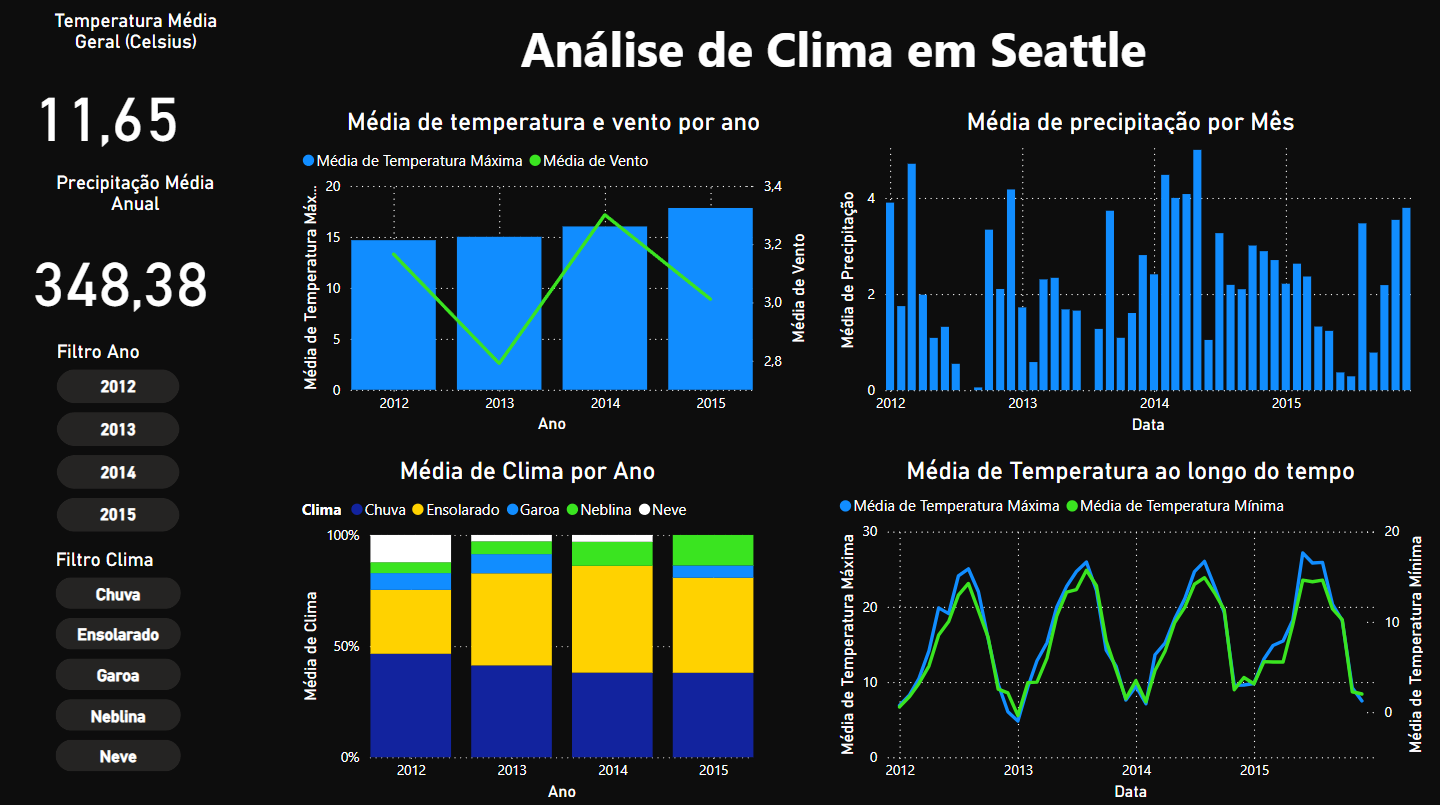

Layout of this report page (visuals, bound fields, positions):
{"tool":"powerbi","page":{"name":"Página 1","canvas":[1280,720],"ordinal":0},"visuals":[{"type":"lineChart","title":"Média de Temperatura ao longo do tempo","fields":{"Y":["Avg(climate_summary.Temperatura Máxima)"],"Category":["climate_summary.Month.Variation.Hierarquia de datas.Ano","climate_summary.Month.Variation.Hierarquia de datas.Trimestre","climate_summary.Month.Variation.Hierarquia de datas.Mês","climate_summary.Month.Variation.Hierarquia de datas.Dia"],"Y2":["Avg(climate_summary.Avg_Temp_Min)"]},"box":[738.3,406.9,528,310.4],"z":0},{"type":"clusteredColumnChart","title":"Média de precipitação por Mês","fields":{"Y":["Avg(climate_summary.Avg_Precipitation)"],"Category":["climate_summary.Month"]},"box":[738.3,97.4,528,294.1],"z":1000},{"type":"hundredPercentStackedColumnChart","title":"Média de Clima por Ano","fields":{"Series":["climate_summary.weather"],"Y":["Avg(climate_summary.Weather_Count)"],"Category":["climate_summary.Month.Variation.Hierarquia de datas.Ano"]},"box":[262.2,406.9,410.6,310.4],"z":2000},{"type":"lineClusteredColumnComboChart","title":"Média de temperatura e vento por ano","fields":{"Y":["Avg(climate_summary.Avg_Temp_Max)"],"Y2":["Avg(climate_summary.Avg_Wind)"],"Category":["climate_summary.Month.Variation.Hierarquia de datas.Ano"]},"box":[262.2,97.4,457,294.1],"z":3000},{"type":"cardVisual","title":"Temperatura Média Geral (Celsius)","fields":{"Data":["climate_summary.Média_Temp"]},"box":[12.4,10.6,216.4,133.9],"z":4000},{"type":"textbox","box":[457,10.9,576.3,69.2],"z":5000},{"type":"cardVisual","title":"Precipitação Média Geral","fields":{"Data":["Sum(climate_summary.Avg_Precipitation)"]},"box":[11.5,168.5,217.2,113.5],"z":6000},{"type":"advancedSlicerVisual","title":"Filtro Ano","fields":{"Values":["climate_summary.Ano"]},"box":[45.5,304,119.1,176.2],"z":7000},{"type":"advancedSlicerVisual","title":"Filtro Clima","fields":{"Values":["climate_summary.Clima"]},"box":[44.5,489,121,206.2],"z":8000}]}

Visuals, with their boxes in screenshot pixels (x1, y1, x2, y2), scaled from the page's 1280x720 canvas onto the 1440x805 screenshot:
"Média de Temperatura ao longo do tempo" lineChart: box(831, 455, 1425, 802)
"Média de precipitação por Mês" clusteredColumnChart: box(831, 109, 1425, 438)
"Média de Clima por Ano" hundredPercentStackedColumnChart: box(295, 455, 757, 802)
"Média de temperatura e vento por ano" lineClusteredColumnComboChart: box(295, 109, 809, 438)
"Temperatura Média Geral (Celsius)" cardVisual: box(14, 12, 257, 162)
textbox: box(514, 12, 1162, 90)
"Precipitação Média Geral" cardVisual: box(13, 188, 257, 315)
"Filtro Ano" advancedSlicerVisual: box(51, 340, 185, 537)
"Filtro Clima" advancedSlicerVisual: box(50, 547, 186, 777)
